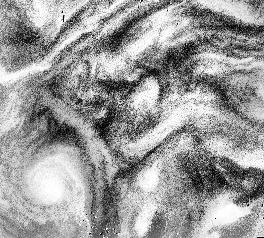CE: (19, 145, 89, 217)
